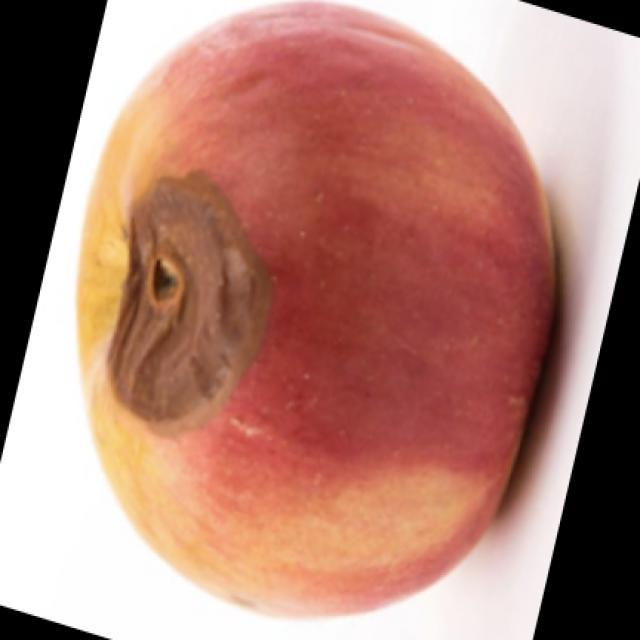Rotten: (73, 25, 550, 600)
